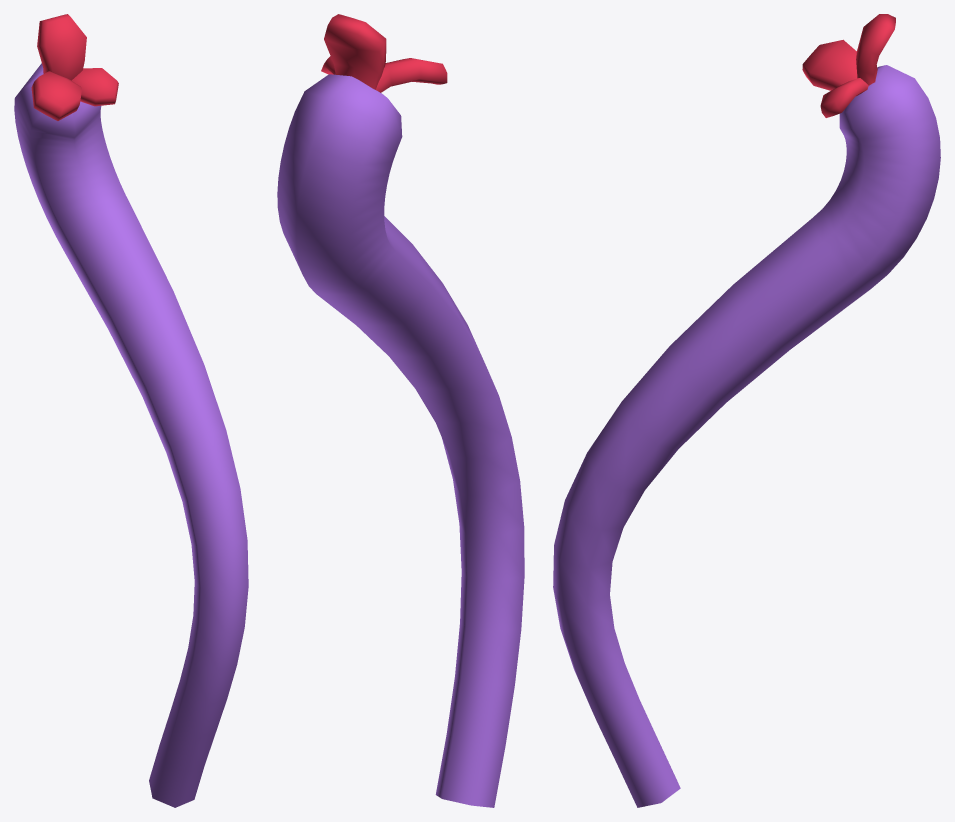
The model's file is M_Prop_WigglyCoral2.fbx.
3 renders of one model, left to right at view 1: azimuth 30°, elevation 25°; view 2: azimuth 150°, elevation 25°; view 3: azimuth 270°, elevation 25°, orthographic. The views are drawn at different scales.
Parts seen in each view (by area): view 1: BézierCurve; view 2: BézierCurve; view 3: BézierCurve.
Part boxes in pixels (x1,y1,x2,y2): BézierCurve: (14, 14, 248, 807); BézierCurve: (277, 14, 524, 807); BézierCurve: (553, 14, 940, 807).
Size of the model in its own units: 179 by 485 by 1072.
